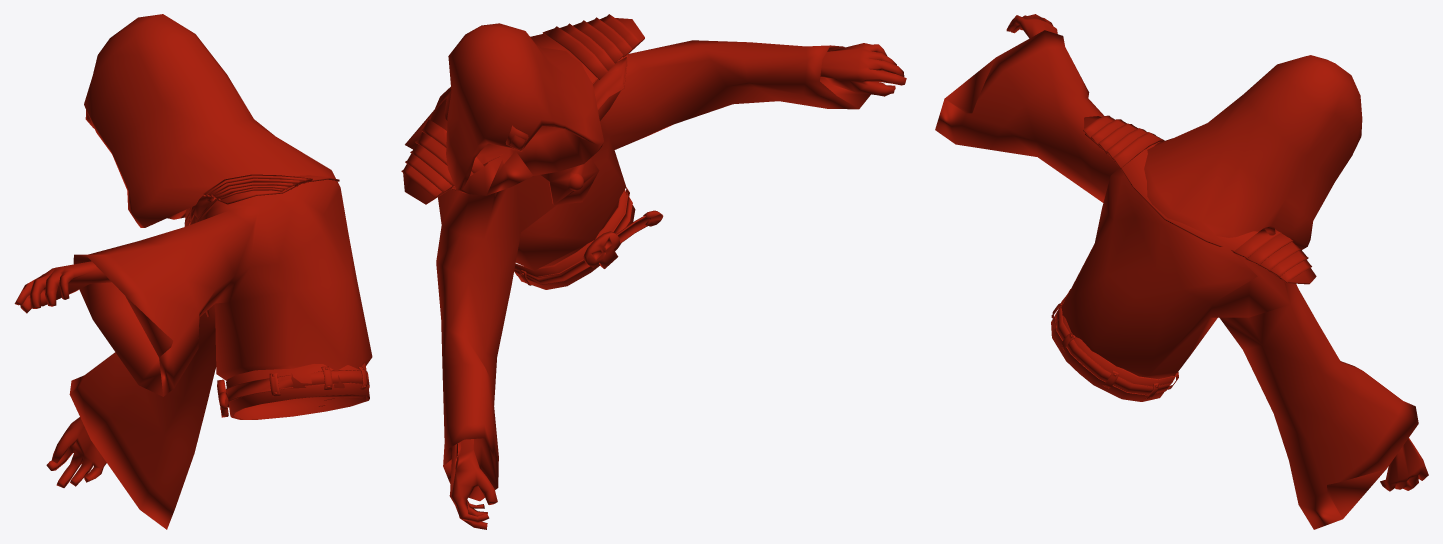
Rendered from top_000075.obj.
3 renders of one model, left to right at view 1: azimuth 30°, elevation 25°; view 2: azimuth 150°, elevation 25°; view 3: azimuth 270°, elevation 25°, orthographic. The views are drawn at different scales.
Visible parts, largest first — view 1: LowPoly_Warlock.000_Plane.005; view 2: LowPoly_Warlock.000_Plane.005; view 3: LowPoly_Warlock.000_Plane.005.
Part boxes in pixels (left/top/right/bottom): LowPoly_Warlock.000_Plane.005: left=14, top=14, right=372, bottom=529; LowPoly_Warlock.000_Plane.005: left=401, top=14, right=906, bottom=529; LowPoly_Warlock.000_Plane.005: left=935, top=14, right=1428, bottom=529.
Bounding box in the file's own units: 1.22 × 1.44 × 1.38.
